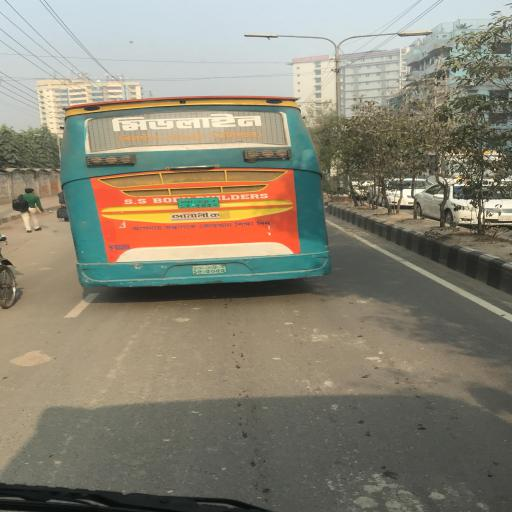bus: (59, 97, 337, 288)
car: (414, 184, 512, 227), (368, 179, 437, 209)
